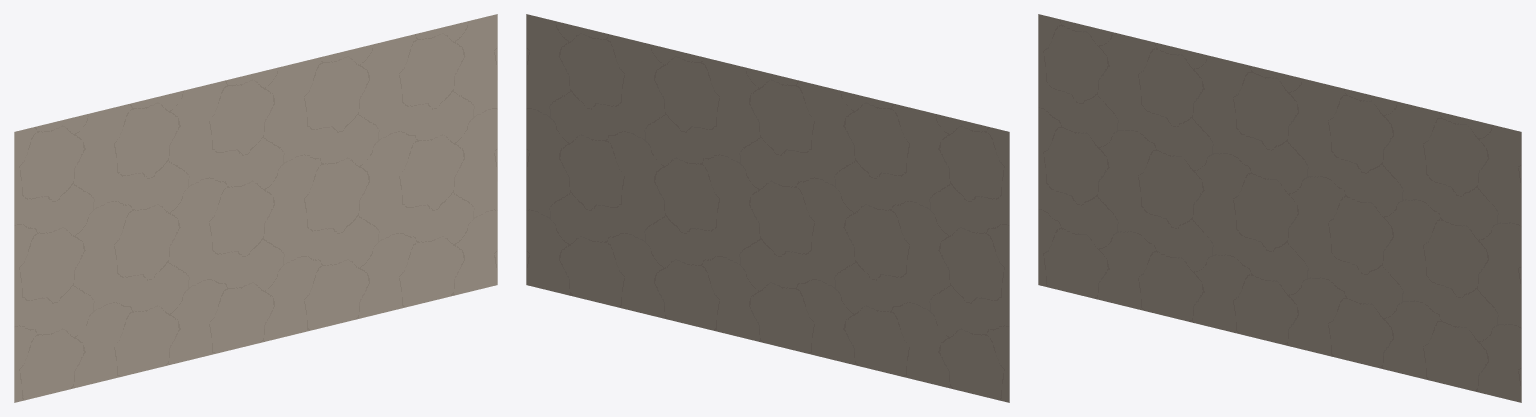
File: kd_stage_135ded_4_144_exterior_piece_3.glb
3 views of the same model, side by side, from view 1: azimuth 30°, elevation 25°; view 2: azimuth 150°, elevation 25°; view 3: azimuth 330°, elevation 25° (orthographic).
Visible parts, largest first — view 1: kd_stage_135ded_4_144_exterior_piece_3; view 2: kd_stage_135ded_4_144_exterior_piece_3; view 3: kd_stage_135ded_4_144_exterior_piece_3.
Boxes of the visible parts, x1,y1,x2,y2 form: kd_stage_135ded_4_144_exterior_piece_3: [14, 14, 497, 402]; kd_stage_135ded_4_144_exterior_piece_3: [526, 14, 1009, 402]; kd_stage_135ded_4_144_exterior_piece_3: [1038, 14, 1521, 402].
Bounding box in the file's own units: 2.03 × 1.09 × 9.54e-07.
Materials: 1 (1 with a texture image).
